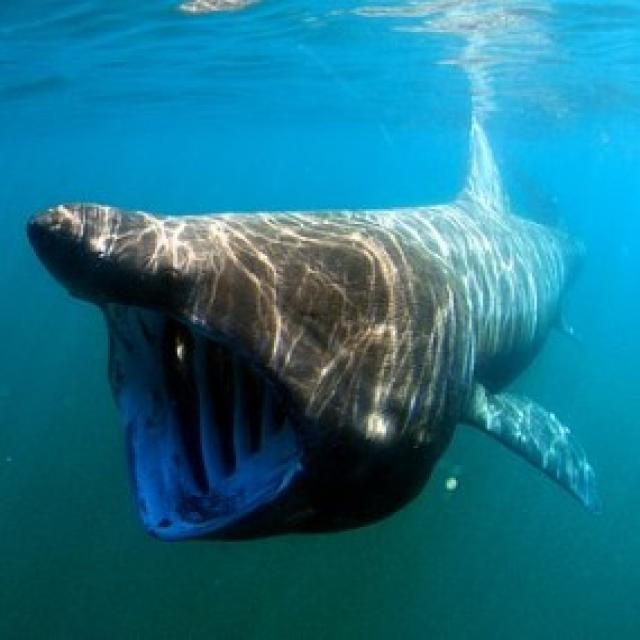Shark: (31, 91, 616, 565)
